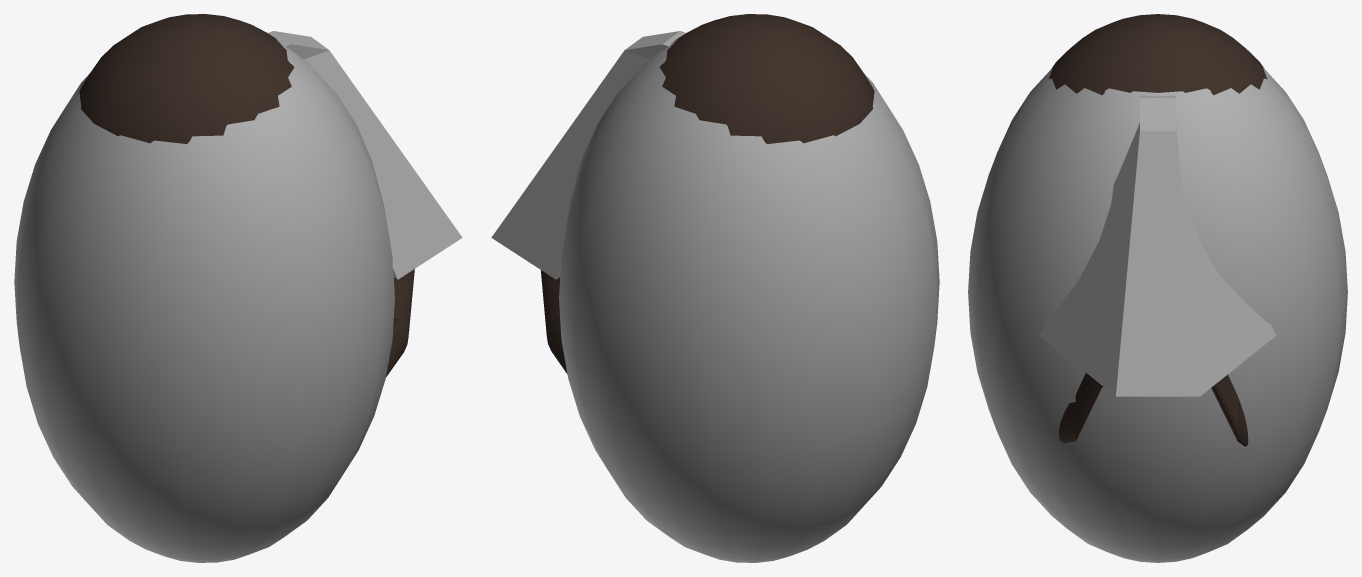
Rendered from CharNoseBrownCheuveux (1).fbx.
3 renders of one model, left to right at view 1: azimuth 30°, elevation 25°; view 2: azimuth 150°, elevation 25°; view 3: azimuth 270°, elevation 25°, orthographic.
Visible parts, largest first — view 1: pSphere4; view 2: pSphere4; view 3: pSphere4.
Boxes of the visible parts, x1,y1,x2,y2 form: pSphere4: [14, 14, 462, 562]; pSphere4: [491, 14, 939, 562]; pSphere4: [968, 14, 1347, 562].
Bounding box in the file's own units: 3.49 × 4.36 × 2.88.
